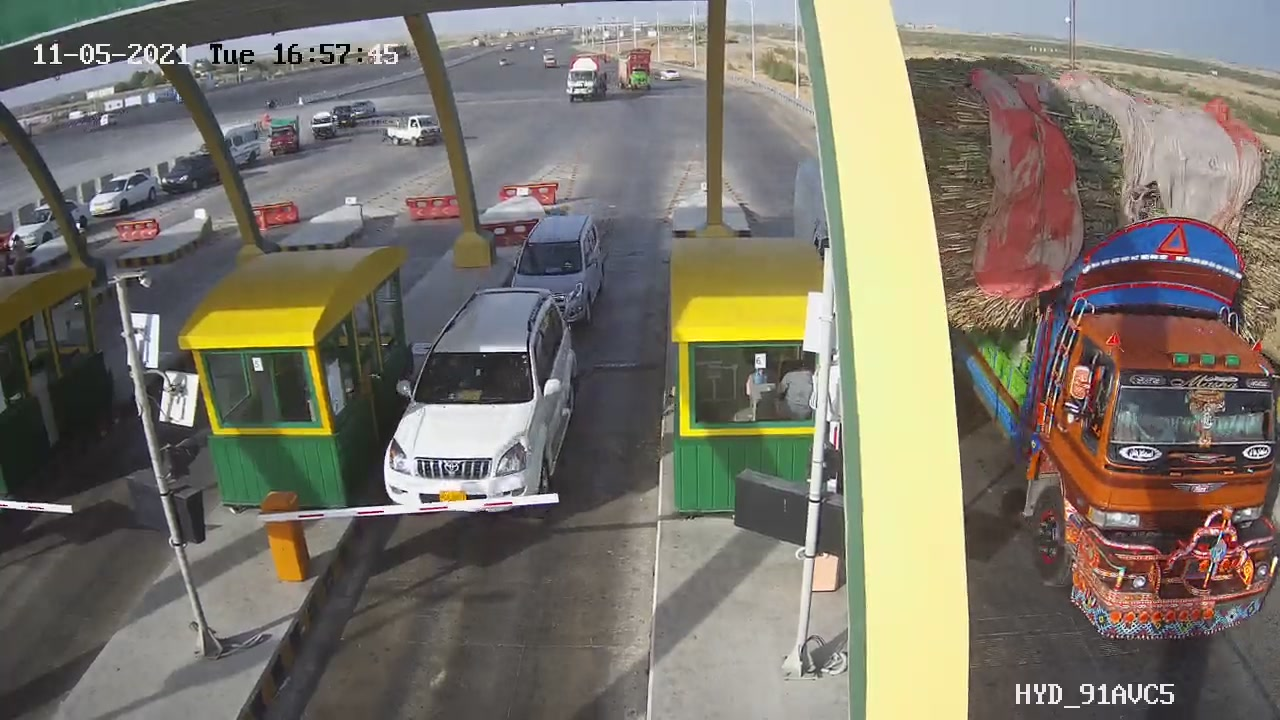F1: (367, 277, 600, 534), (493, 201, 623, 346)
